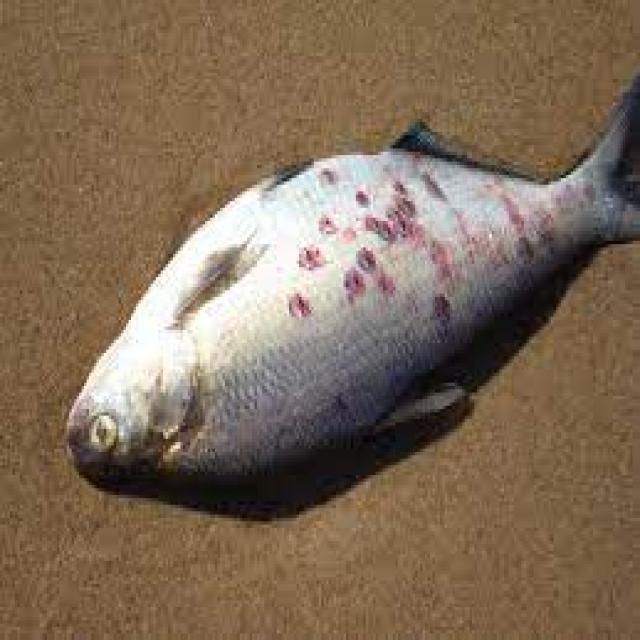EUS Disease: (66, 73, 640, 504), (264, 81, 640, 430)
